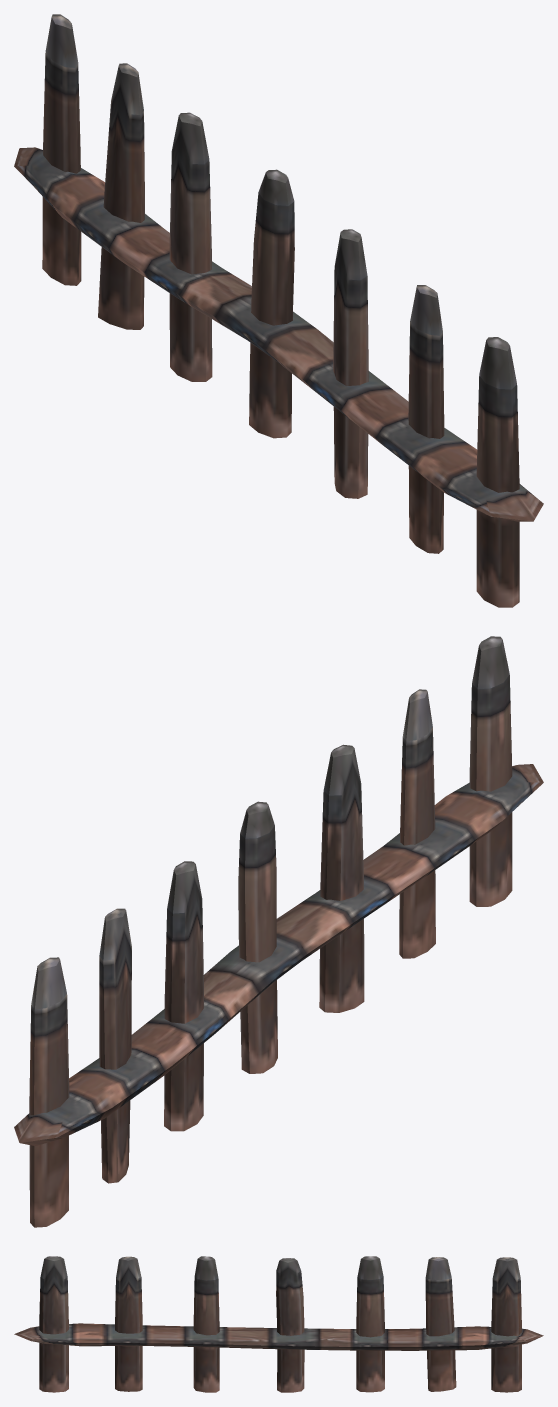
Rendered from FB6_tiemen01.FBX.
The picture shows the model from 3 angles, top to bottom: view 1: azimuth 30°, elevation 25°; view 2: azimuth 150°, elevation 25°; view 3: azimuth 270°, elevation 25°; orthographic projection. The views are drawn at different scales.
Parts seen in each view (by area): view 1: FB6_tiemen01_001; view 2: FB6_tiemen01_001; view 3: FB6_tiemen01_001.
Part boxes in pixels (x1,y1,x2,y2): FB6_tiemen01_001: (14, 14, 543, 607); FB6_tiemen01_001: (14, 636, 543, 1227); FB6_tiemen01_001: (14, 1256, 543, 1392).
Bounding box in the file's own units: 60.32 × 210 × 760.
1 material, 1 textured.
